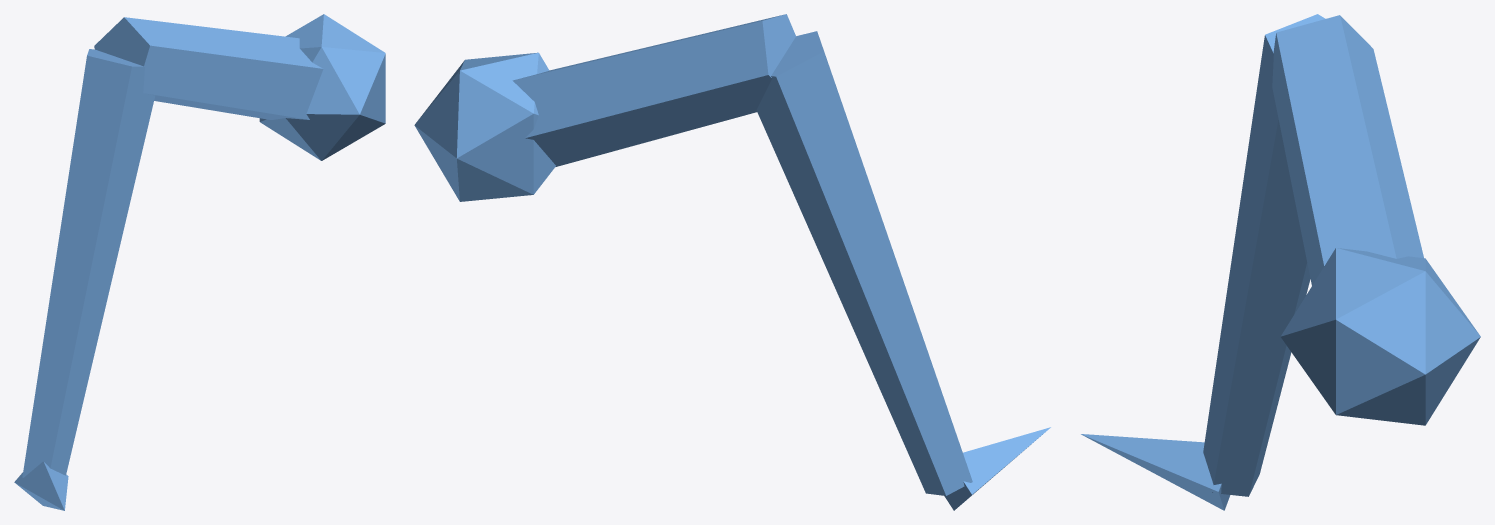
Rendered from QuickLegs.fbx.
3 renders of one model, left to right at view 1: azimuth 30°, elevation 25°; view 2: azimuth 150°, elevation 25°; view 3: azimuth 270°, elevation 25°, orthographic. The views are drawn at different scales.
Parts seen in each view (by area): view 1: QuickLegs; view 2: QuickLegs; view 3: QuickLegs.
Boxes of the visible parts, box(x1,y1,x2,y2) form: QuickLegs: box(14, 14, 385, 510); QuickLegs: box(414, 14, 1050, 510); QuickLegs: box(1081, 14, 1480, 510).
Bounding box in the file's own units: 0.5316 × 0.5088 × 0.32.
